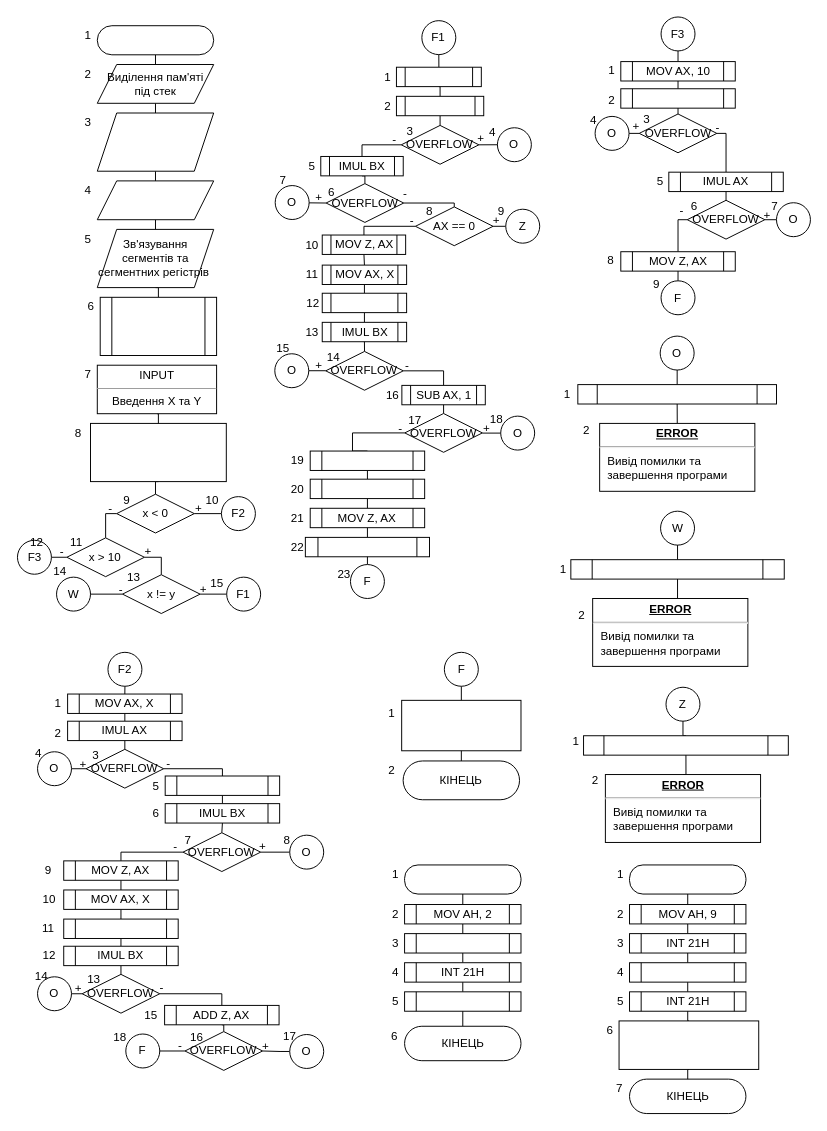
Some shapes in this 827 by 1131 pixel diagram are drawn without their labels. The shapes that lost their labels are listed below. From the top down, each one's centre as x and y in pixels, then its label:
At (x=155, y=40): "Початок".
At (x=438, y=76): "MOV BX, Y".
At (x=439, y=105): "SUB AX, BX".
At (x=677, y=98): "SUB AX, X".
At (x=155, y=141): "Ініціалізація повідомлень, змінних, буферів".
At (x=155, y=200): "Опис сегменту коду".
At (x=364, y=302): "MOV BX, 15".
At (x=158, y=326): "Отримання адреси повернення та ініціалізація DS".
At (x=676, y=394): "LEA DX, MSG_OVERFLOW".
At (x=158, y=452): "CHECKNUMS Перевірка на коректне введення X та Y".
At (x=367, y=460): "XOR DX, DX".
At (x=367, y=488): "IDIV Z".
At (x=367, y=546): "MOV Z_SUB, DX".
At (x=677, y=569): "LEA DX, MSG_WRONG_DATA".
At (x=461, y=725): "OUTPUT Вивід результату".
At (x=685, y=745): "LEA DX, MSG_DIV_ZERO".
At (x=222, y=785): "MOV BX, 35".
At (x=462, y=879): "NEXTLINE".
At (x=687, y=879): "ERROR".
At (x=120, y=928): "MOV BX, 8".
At (x=462, y=943): "MOV DL, 10".
At (x=687, y=972): "MOV AX, 4C00H".
At (x=462, y=1001): "RET".
At (x=688, y=1044): "NEXTLINE Виведення нової строки".
